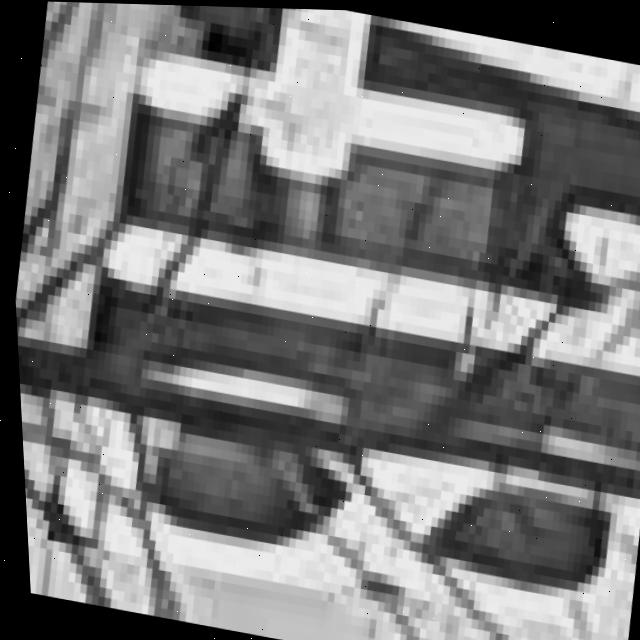character: (48, 320, 640, 640), (79, 98, 640, 417), (117, 3, 640, 258)
